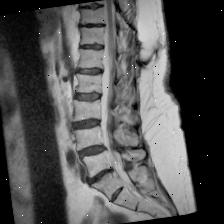disc: (86, 165, 119, 188), (69, 116, 104, 134), (77, 142, 109, 161), (76, 37, 108, 55), (76, 16, 108, 34), (80, 1, 106, 13)
hdisc: (72, 88, 104, 106), (73, 62, 107, 78)
